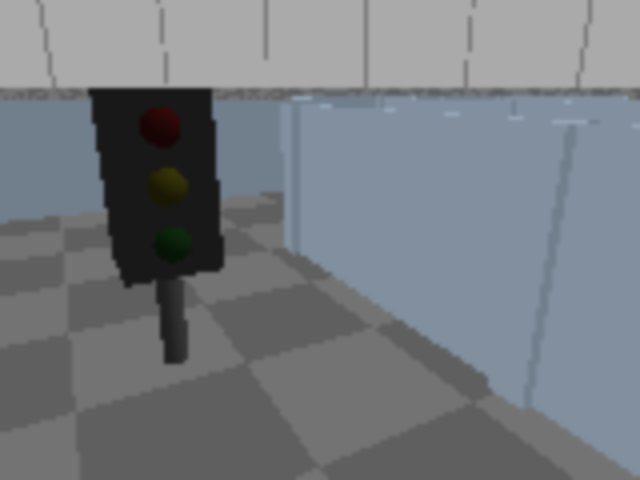traffic_light: (86, 68, 231, 393)
